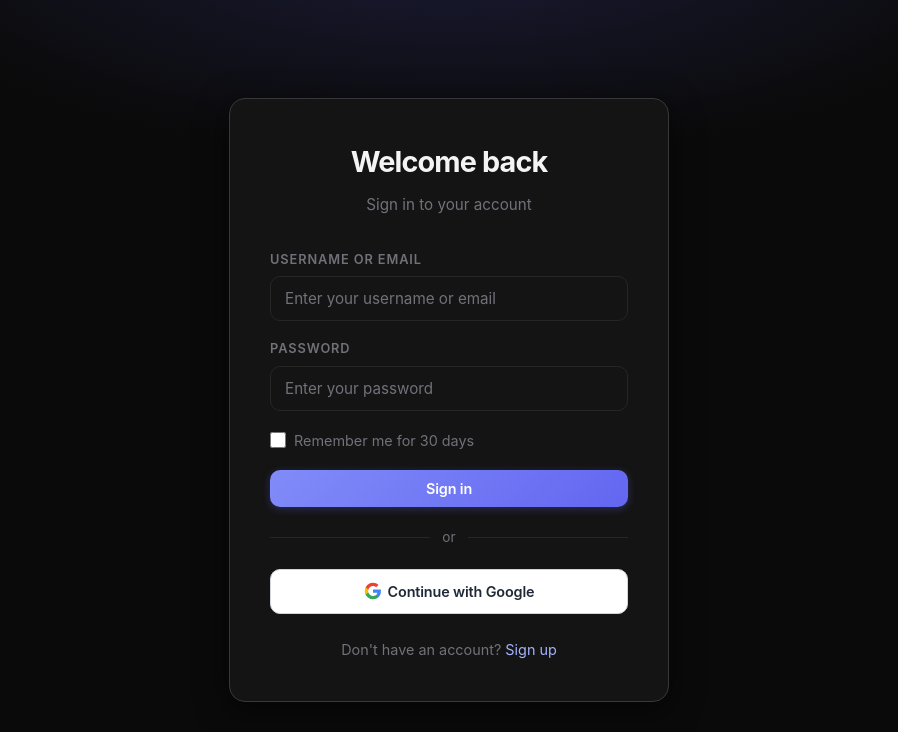
Test case: LoginPage › Client-side validation › shows error when identifier is empty
This screenshot has width=898, height=732.
In the password field with placeholder "Enter your password": (449, 388) [270, 366, 628, 411], type "somepassword"
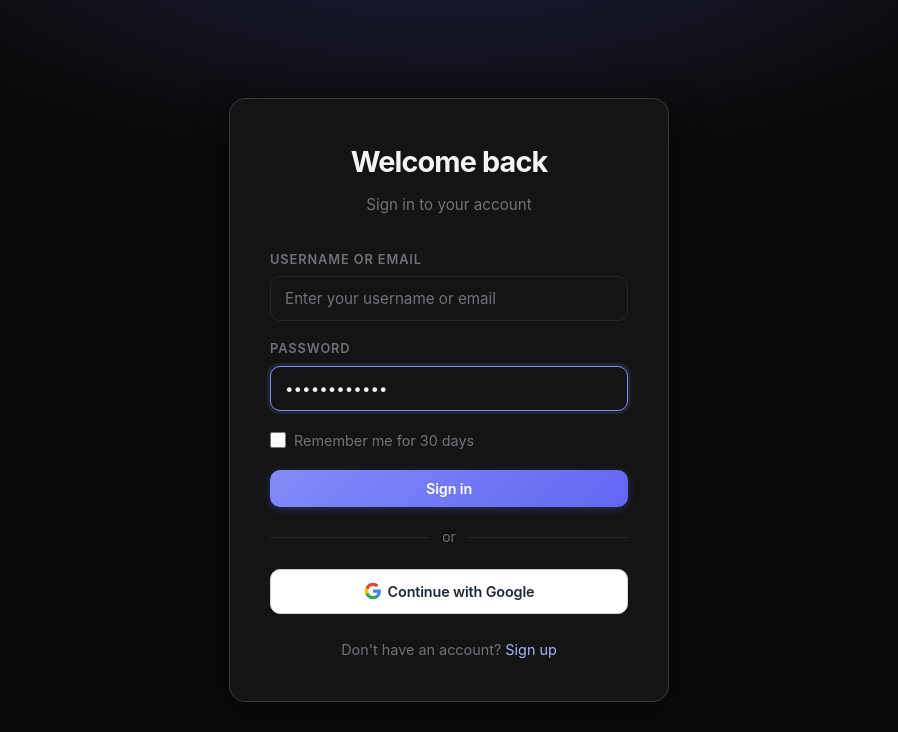
Click the button "Sign in": (449, 488) [270, 470, 628, 507]
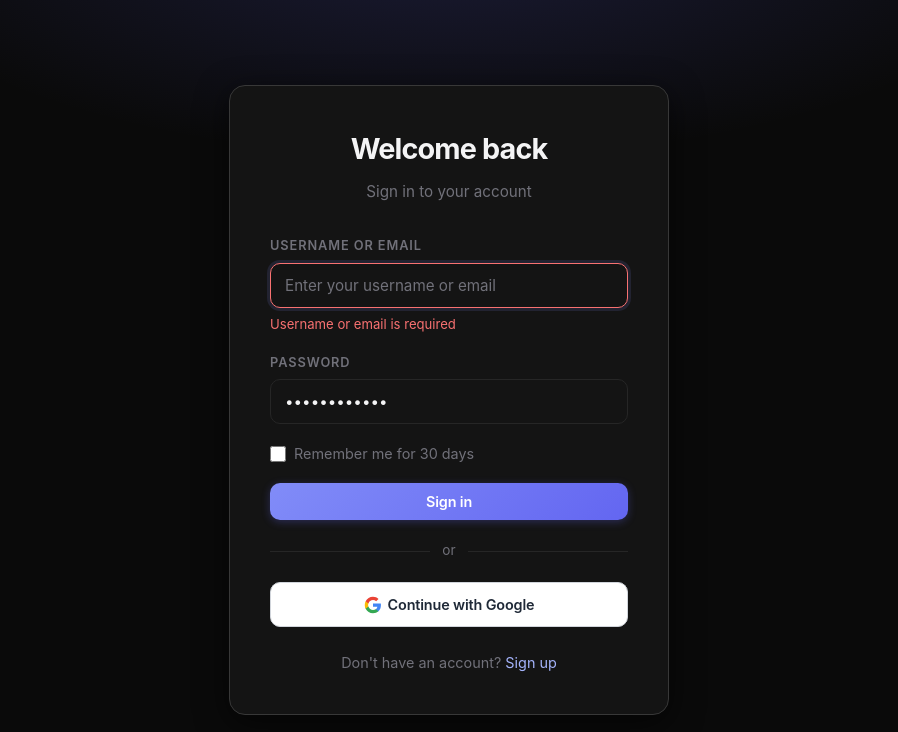
Result: the text "Username or email is required" is shown at [270, 316, 456, 332]
